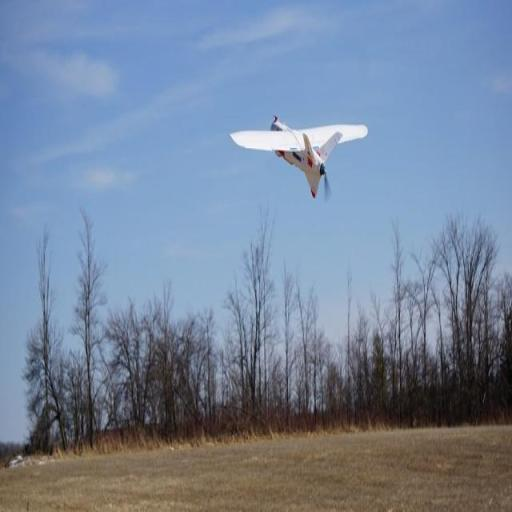uav: (224, 112, 372, 198)
